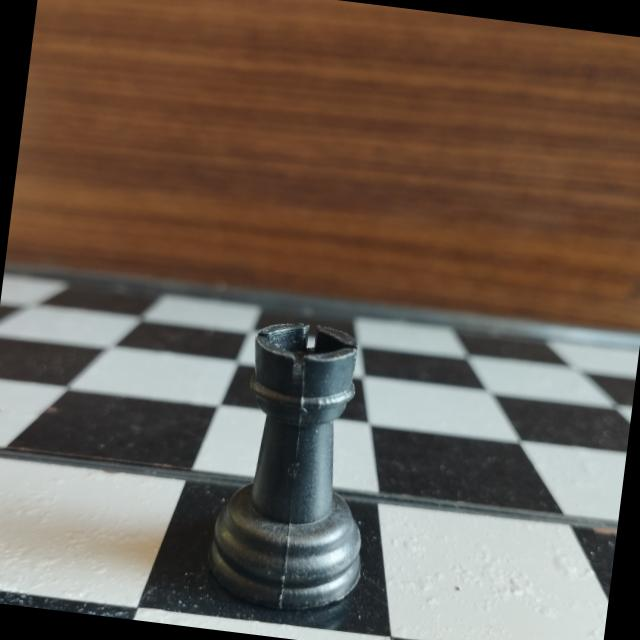Black Rook: (200, 308, 395, 625)
